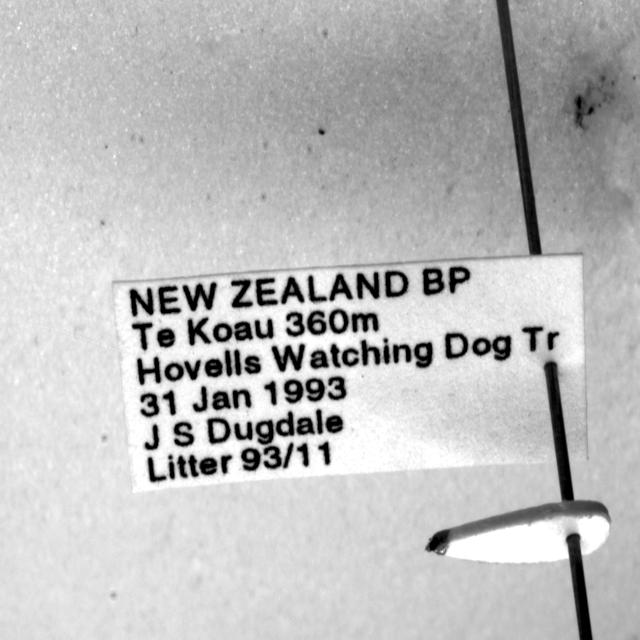typed_label: (112, 255, 588, 491)
